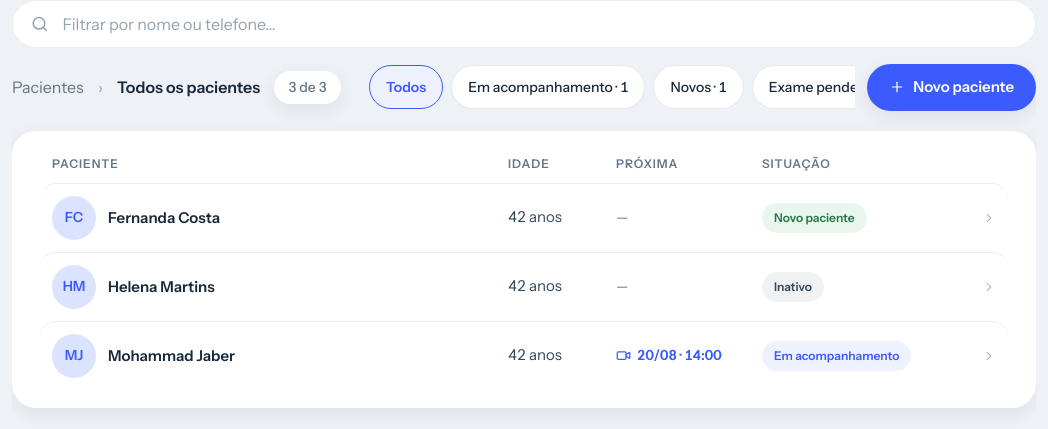
Scenario: chips filtram por situação e atualizam o contador
The image size is (1048, 429).
Expected: the text "3 de 3" is shown, [274, 71, 341, 104]
Click the button "Novos · 1".
click(699, 87)  # box [654, 65, 744, 109]
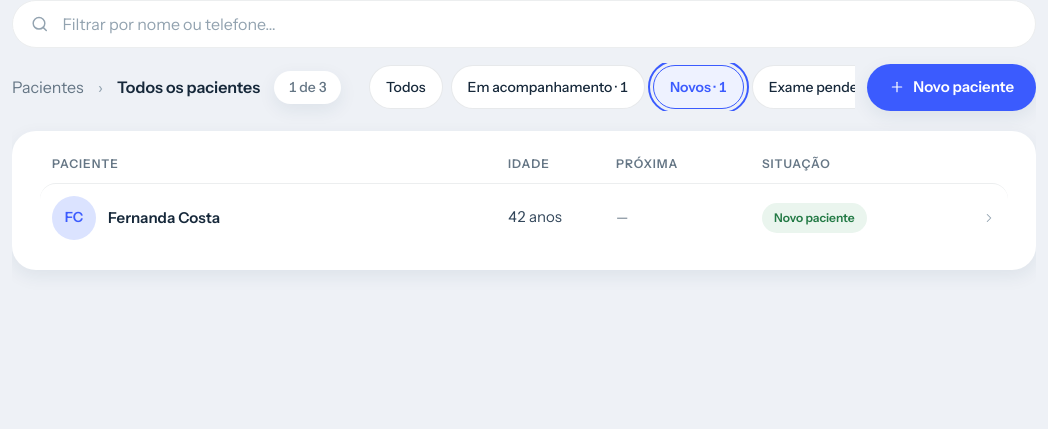
Expected: the button with aria-label "Abrir detalhes de Fernanda Costa" is shown, [40, 182, 1008, 252]
Expected: the text "1 de 3" is shown, [274, 71, 341, 104]
